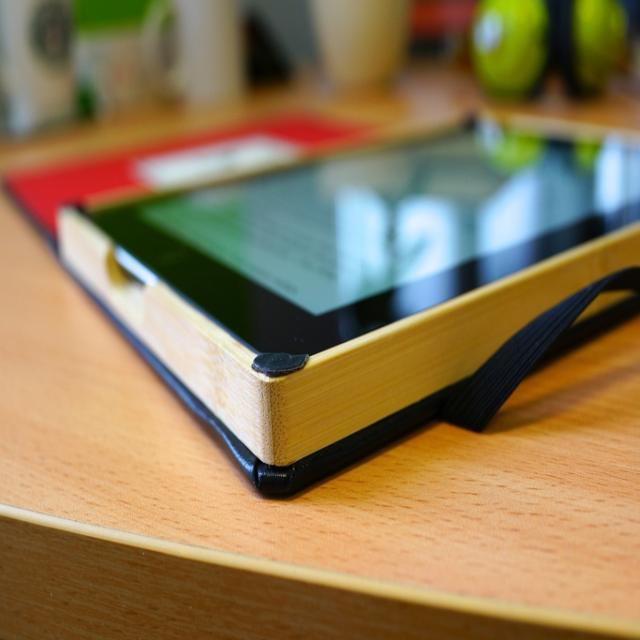Mobile-phone: (19, 175, 636, 488)
